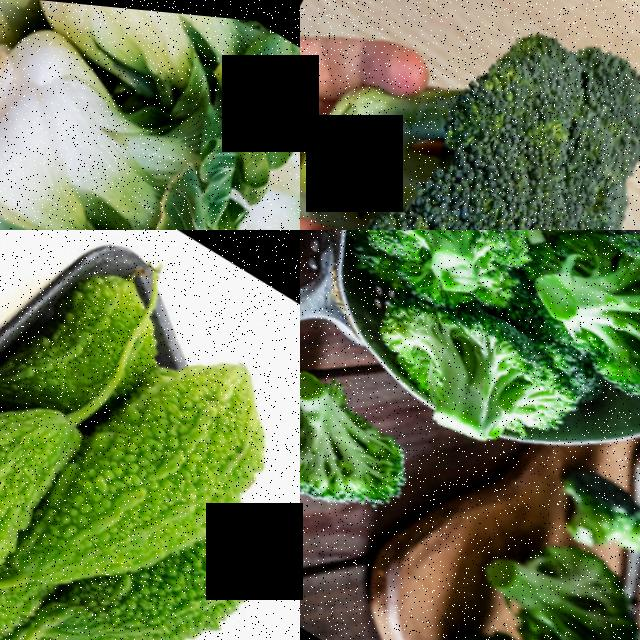bitter gourd: (43, 298, 265, 603), (162, 487, 300, 640), (0, 373, 66, 624)
bok choy: (0, 21, 271, 230), (0, 0, 300, 149)
broccoli: (300, 0, 640, 230), (359, 272, 582, 464), (300, 339, 441, 540), (461, 491, 640, 640), (528, 230, 640, 405), (541, 420, 640, 572), (349, 230, 537, 310)
